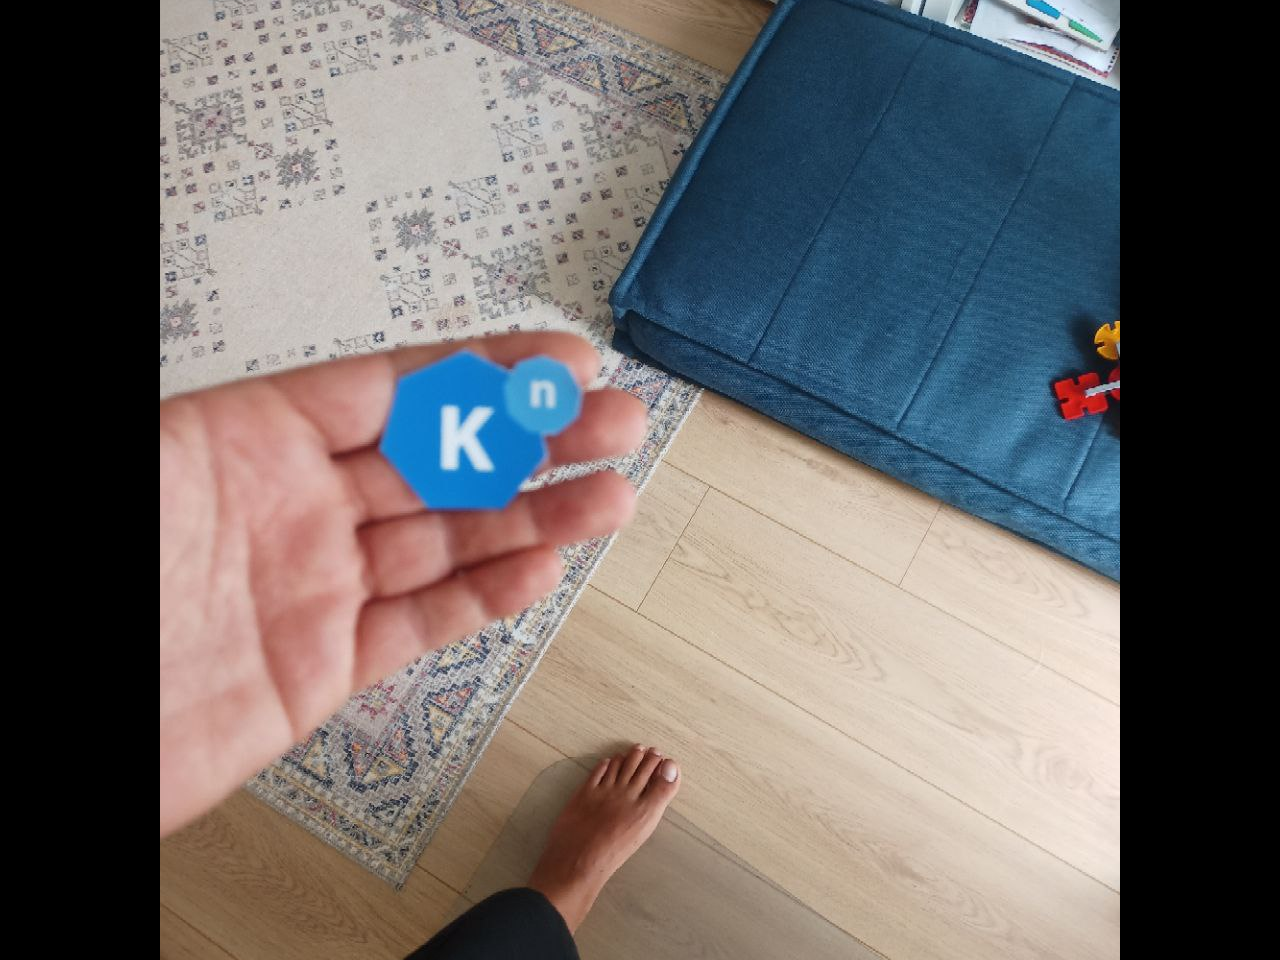knative: (376, 353, 577, 513)
